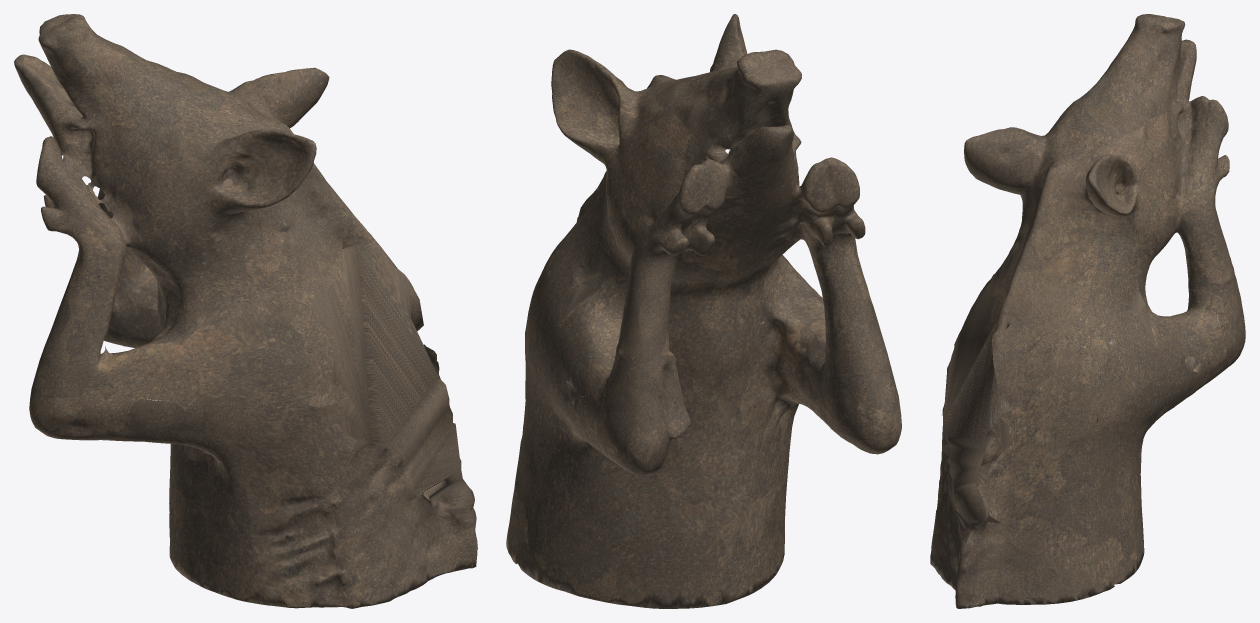
3 renders of one model, left to right at view 1: azimuth 30°, elevation 25°; view 2: azimuth 150°, elevation 25°; view 3: azimuth 270°, elevation 25°, orthographic. The views are drawn at different scales.
Parts seen in each view (by area): view 1: Mesh_0; view 2: Mesh_0; view 3: Mesh_0.
Boxes of the visible parts, x1=… form: Mesh_0: x1=14, y1=14, x2=477, y2=608; Mesh_0: x1=506, y1=14, x2=901, y2=608; Mesh_0: x1=930, y1=14, x2=1245, y2=608.
Size of the model in its own units: 2.37 by 3.25 by 1.99.
Materials: 4 (4 with a texture image).
